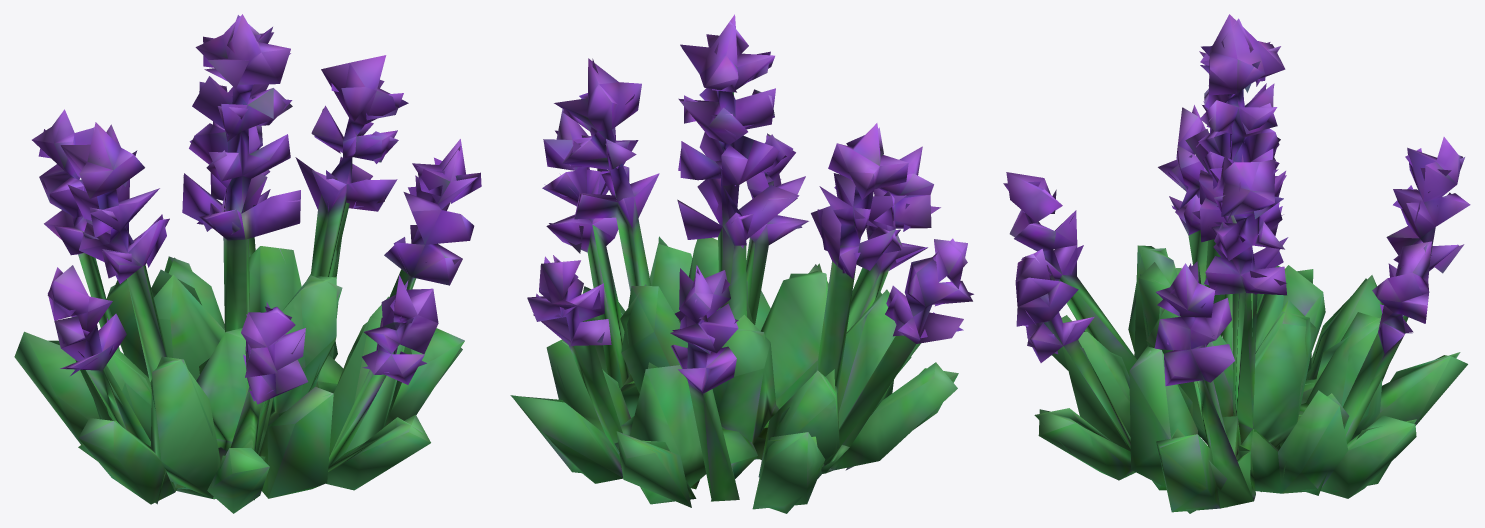
Rendered from x-plant-lavender.glb.
3 renders of one model, left to right at view 1: azimuth 30°, elevation 25°; view 2: azimuth 150°, elevation 25°; view 3: azimuth 270°, elevation 25°, orthographic.
Parts seen in each view (by area): view 1: geometry_0; view 2: geometry_0; view 3: geometry_0.
Boxes of the visible parts, x1,y1,x2,y2 form: geometry_0: [14, 14, 481, 513]; geometry_0: [510, 14, 973, 513]; geometry_0: [1003, 14, 1470, 513].
Size of the model in its own units: 0.9948 by 1 by 0.9555.
Materials: 1 (1 with a texture image).
